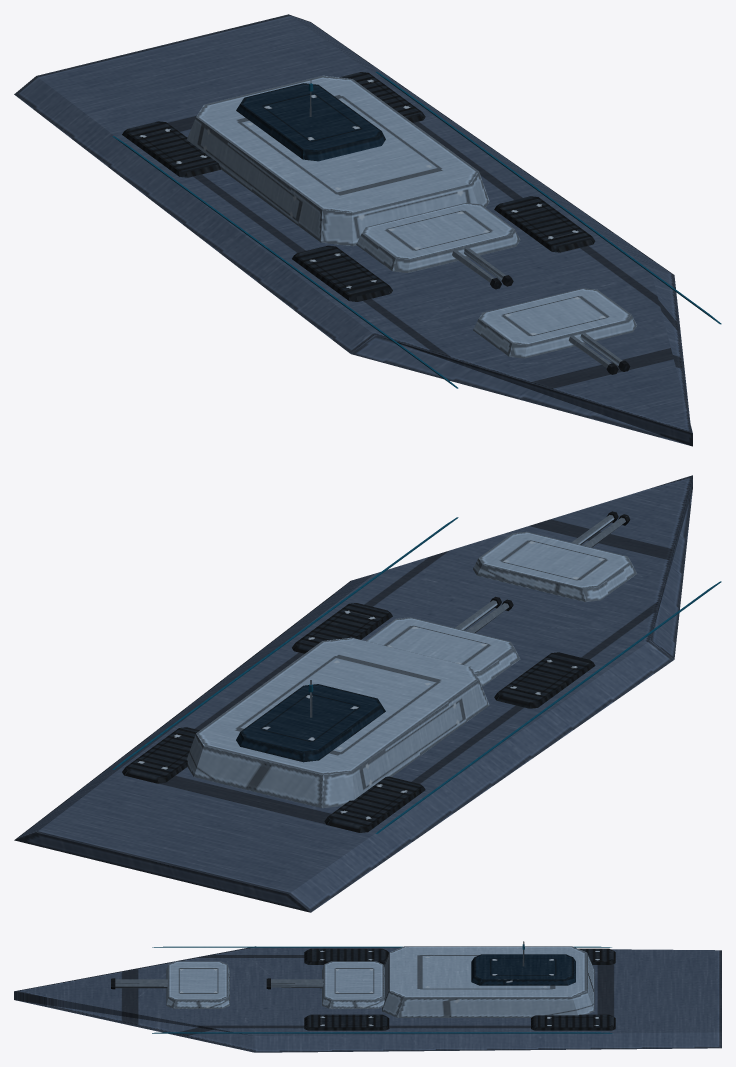
File: unit-battleship.fbx
3 views of the same model, one above another, from view 1: azimuth 30°, elevation 25°; view 2: azimuth 150°, elevation 25°; view 3: azimuth 270°, elevation 25° (orthographic). The views are drawn at different scales.
Visible parts, largest first — view 1: unit-battleship; view 2: unit-battleship; view 3: unit-battleship.
Part boxes in pixels (bbox=[...]): unit-battleship: bbox=[14, 14, 721, 446]; unit-battleship: bbox=[14, 475, 721, 912]; unit-battleship: bbox=[14, 941, 721, 1052].
Size of the model in its own units: 1814 by 470 by 5148.
Materials: 1 (1 with a texture image).
